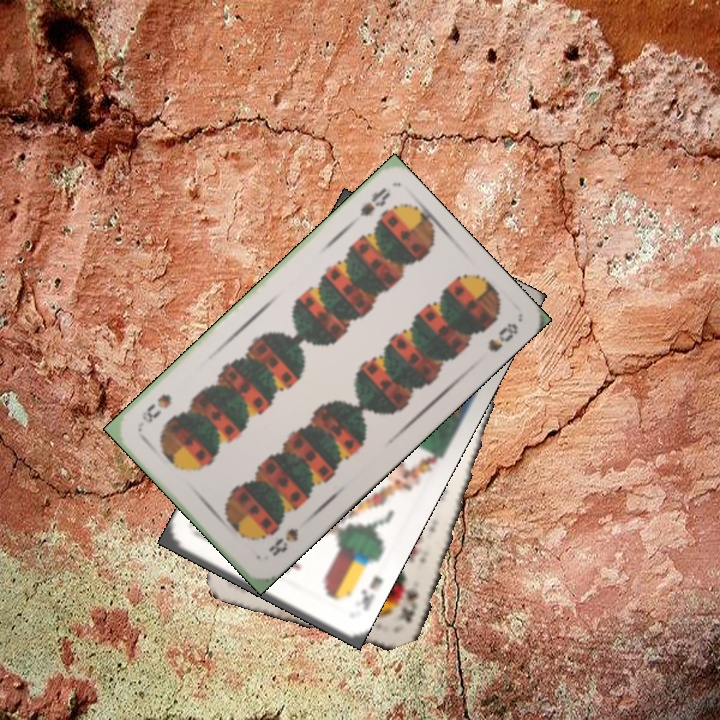EK: (356, 571, 385, 614)
S8: (355, 183, 393, 220), (263, 524, 301, 560)
SK: (394, 572, 421, 625)
